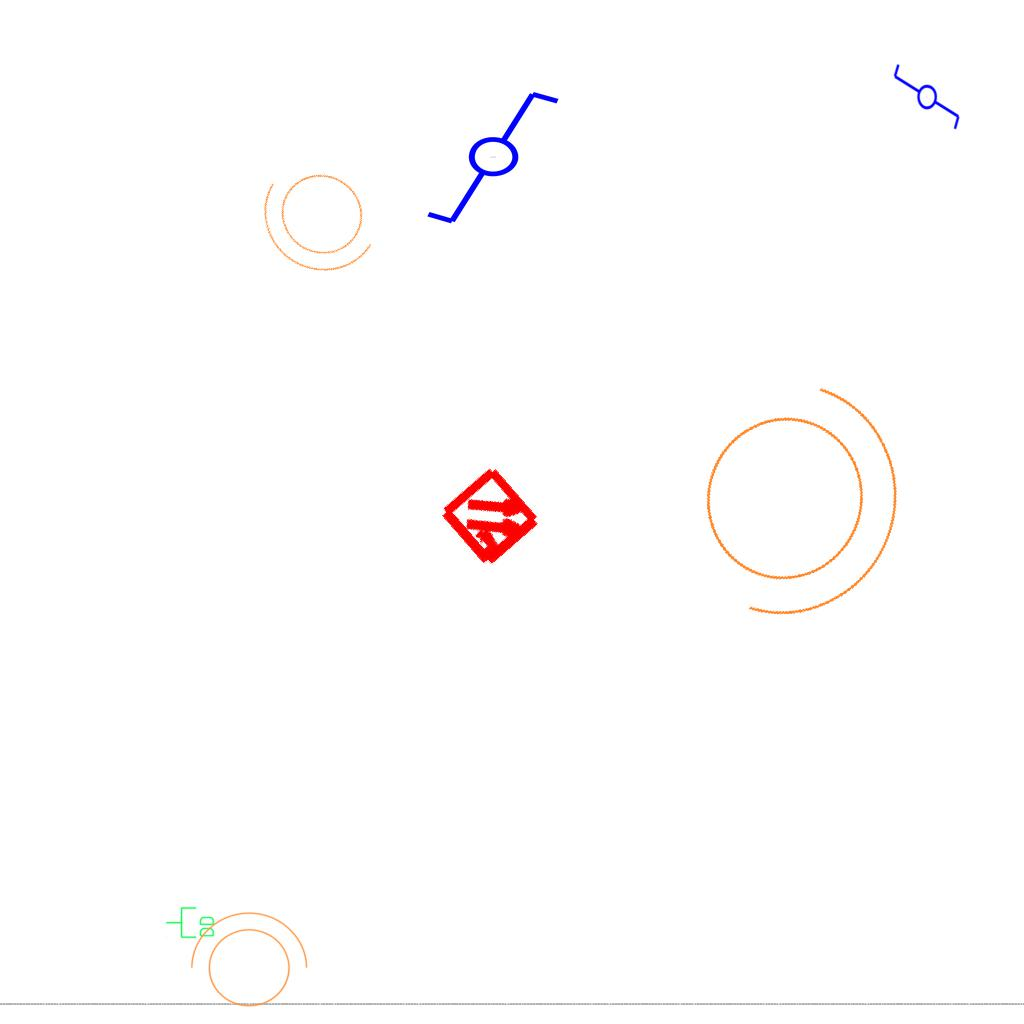Datenanschluss_zweifach: (165, 906, 216, 940)
OT_Multisensormelder_(Kombination_RMO_WMD): (411, 438, 572, 599)
Scheinwerfer_fuer_Alarmbeleuchtung: (648, 335, 944, 656), (236, 137, 408, 303), (180, 907, 312, 1019)
Wechselschalter: (423, 87, 580, 231), (890, 62, 962, 140)
